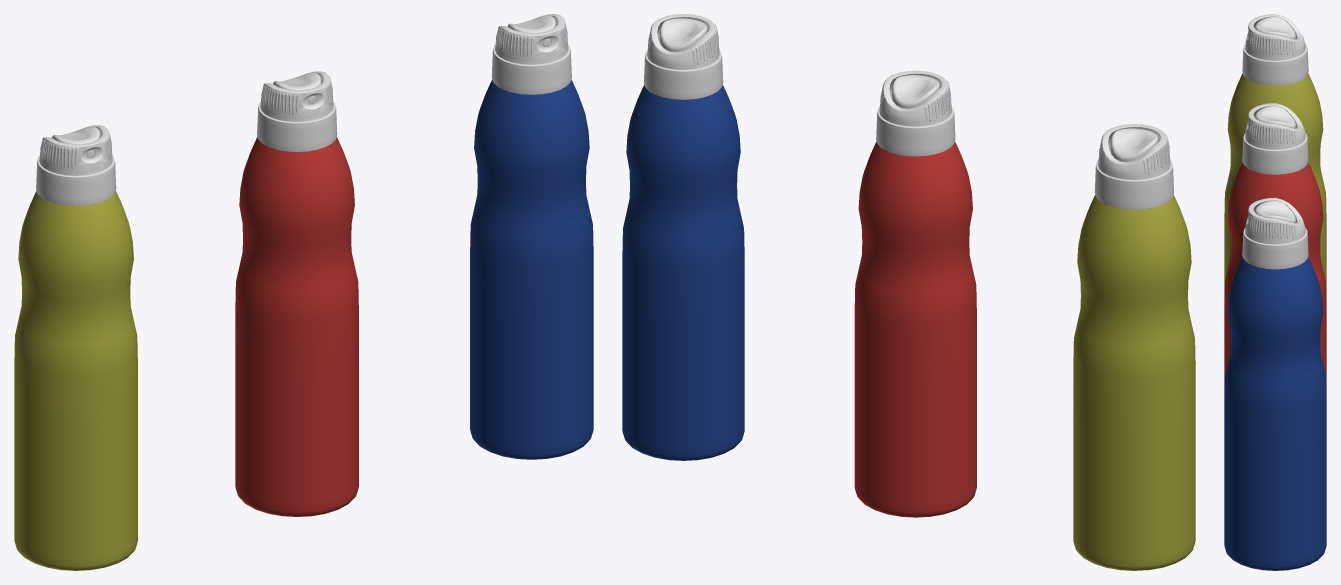
The model's file is bodyspray.fbx.
The picture shows the model from 3 angles, left to right: view 1: azimuth 30°, elevation 25°; view 2: azimuth 150°, elevation 25°; view 3: azimuth 270°, elevation 25°; orthographic projection. The views are drawn at different scales.
Visible parts, largest first — view 1: bottle (2).002, bottle (2).001, bottle (2), cap.001, cap.002, cap; view 2: bottle (2).002, bottle (2).001, bottle (2), cap, cap.001, cap.002; view 3: bottle (2).002, bottle (2), bottle (2).001, cap, cap.001, cap.002.
Boxes of the visible parts, bbox=[...] form: bottle (2).002: bbox=[470, 80, 593, 459]; bottle (2).001: bbox=[14, 191, 137, 570]; bottle (2): bbox=[235, 137, 358, 516]; cap.001: bbox=[36, 125, 116, 205]; cap.002: bbox=[491, 14, 571, 94]; cap: bbox=[257, 71, 337, 151]; bottle (2).002: bbox=[622, 85, 744, 460]; bottle (2).001: bbox=[1073, 195, 1195, 570]; bottle (2): bbox=[854, 141, 976, 517]; cap: bbox=[876, 70, 955, 156]; cap.001: bbox=[1094, 124, 1173, 209]; cap.002: bbox=[644, 14, 723, 99]; bottle (2).002: bbox=[1224, 257, 1326, 570]; bottle (2): bbox=[1224, 162, 1326, 396]; bottle (2).001: bbox=[1224, 73, 1326, 301]; cap: bbox=[1242, 103, 1308, 174]; cap.001: bbox=[1242, 14, 1308, 85]; cap.002: bbox=[1242, 197, 1308, 269].
Size of the model in its own units: 28.01 by 19.77 by 5.33.
